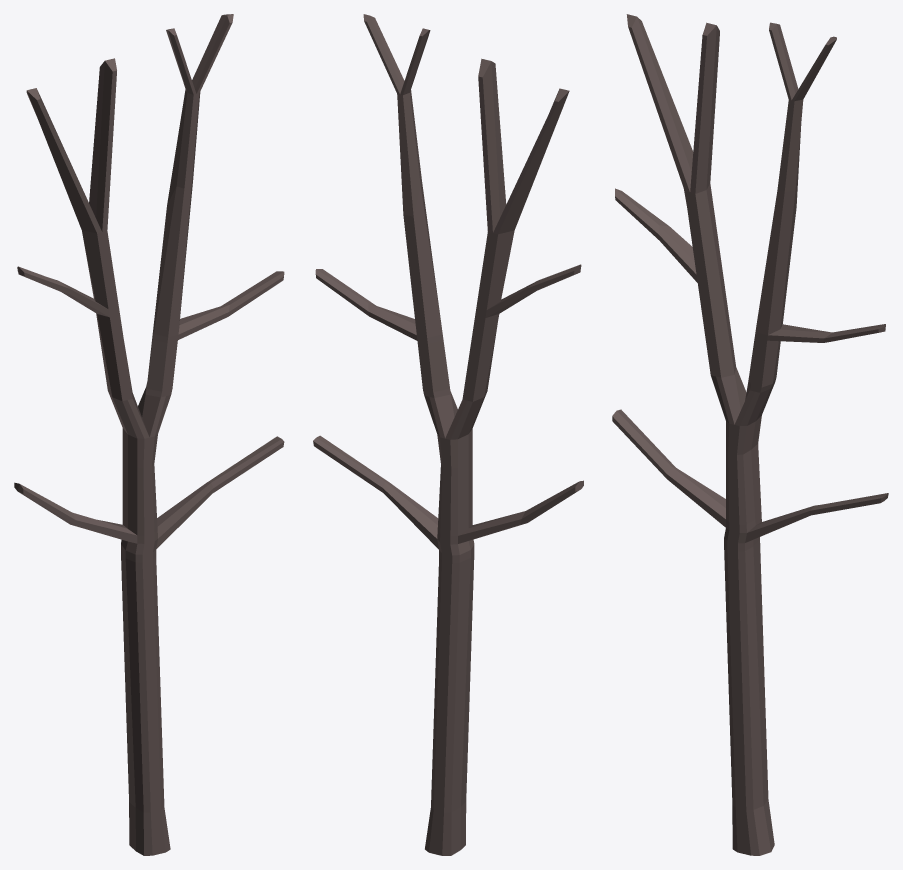
The model's file is Træ 1.fbx.
3 renders of one model, left to right at view 1: azimuth 30°, elevation 25°; view 2: azimuth 150°, elevation 25°; view 3: azimuth 330°, elevation 25°, orthographic. The views are drawn at different scales.
Parts seen in each view (by area): view 1: Cube; view 2: Cube; view 3: Cube.
Boxes of the visible parts, <box> form: Cube: <box>14,14,284,855</box>; Cube: <box>313,14,583,855</box>; Cube: <box>612,14,888,855</box>.
Size of the model in its own units: 1738 by 5072 by 215.
